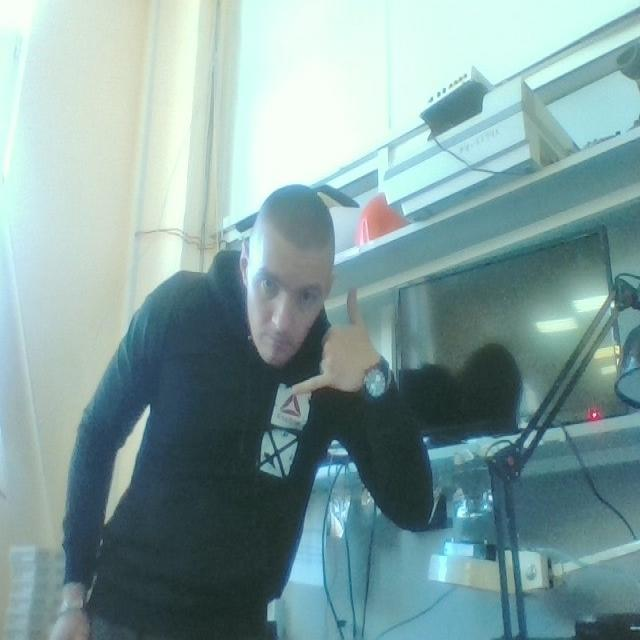call: (290, 284, 386, 400)
